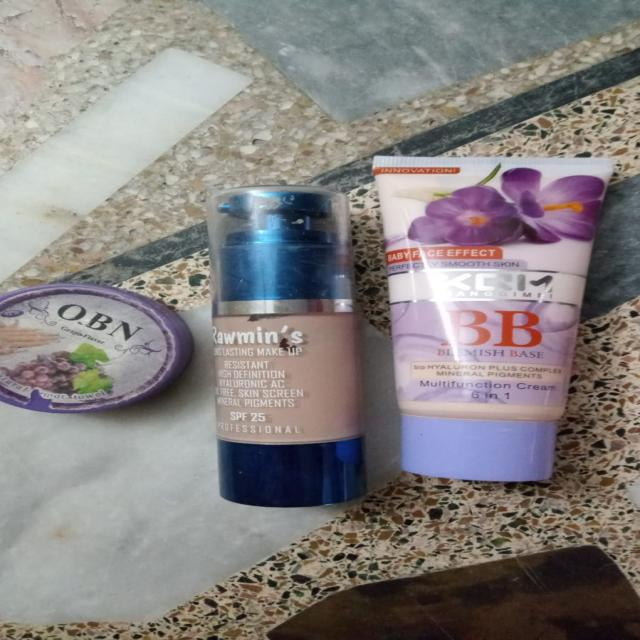bb cream: (328, 130, 640, 510)
foundation: (188, 165, 374, 553)
nail polish remover: (0, 254, 193, 446)
